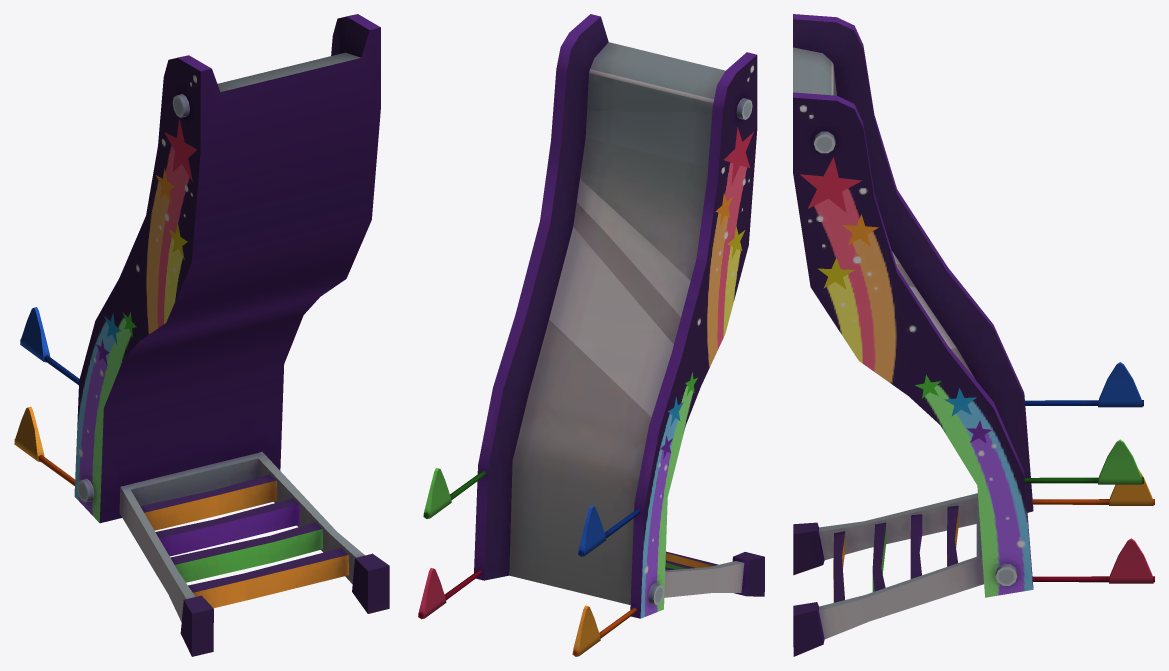
The model's file is RainbowSlide.fbx.
3 views of the same model, side by side, from view 1: azimuth 30°, elevation 25°; view 2: azimuth 150°, elevation 25°; view 3: azimuth 270°, elevation 25° (orthographic). The views are drawn at different scales.
Visible parts, largest first — view 1: RainbowSlide; view 2: RainbowSlide; view 3: RainbowSlide.
Part boxes in pixels (x1,y1,x2,y2): RainbowSlide: [14, 14, 389, 656]; RainbowSlide: [418, 14, 764, 656]; RainbowSlide: [793, 14, 1154, 656].
Size of the model in its own units: 195 by 552 by 326.
